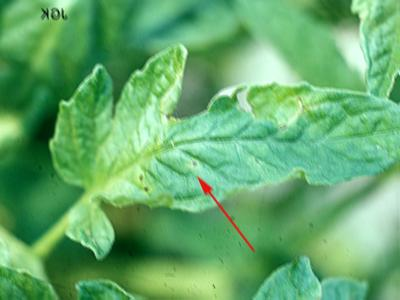Tomato leaf bacterial spot: (47, 44, 398, 217)
